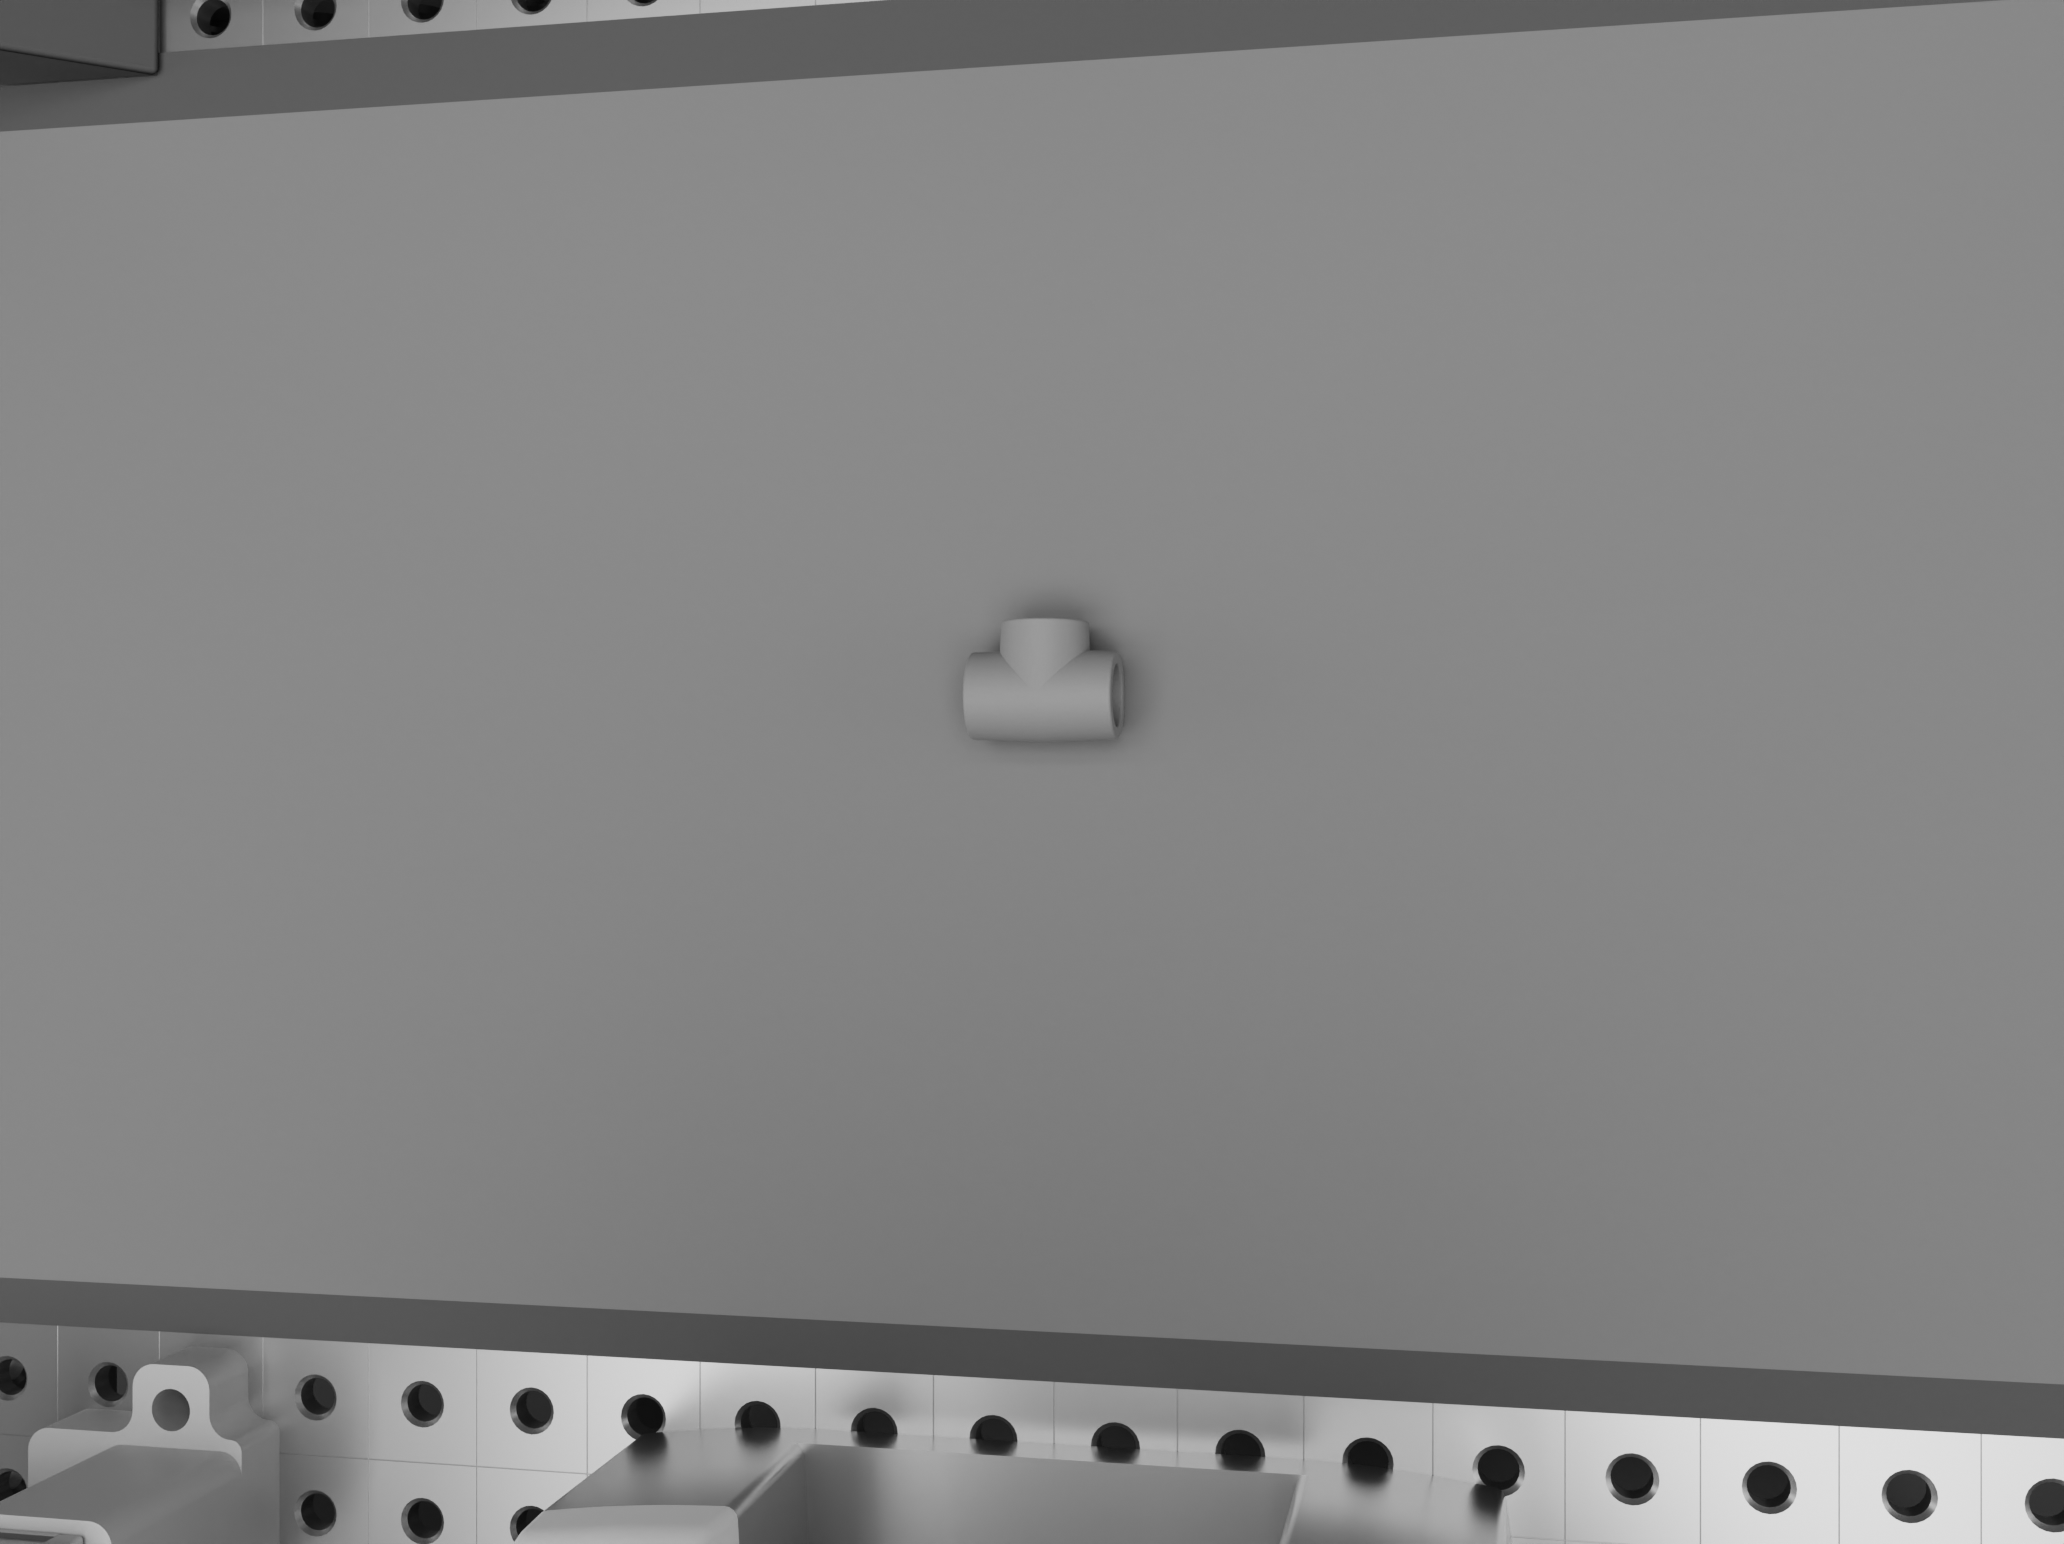ID_0: (950, 615, 1132, 753)
